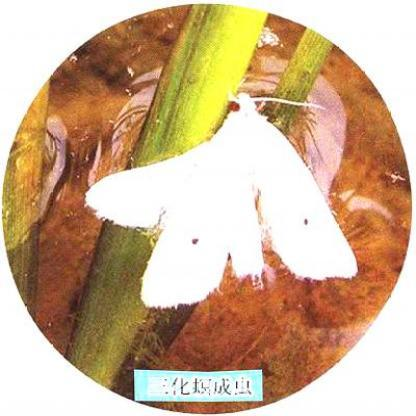stem-borer: (84, 90, 358, 309)
